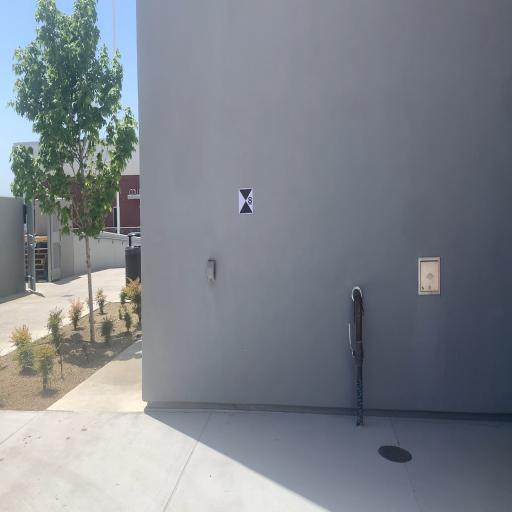target8: (238, 188, 254, 216)
